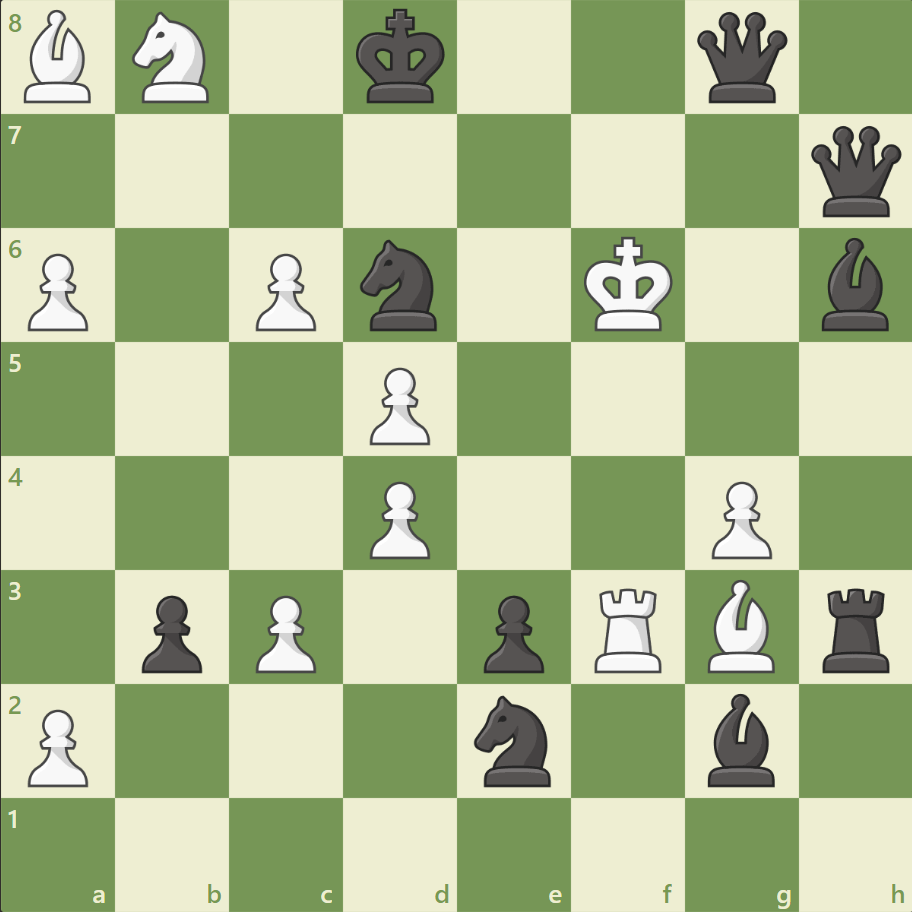B: (17, 6, 101, 109), (698, 574, 782, 676)
K: (579, 231, 679, 339)
N: (124, 7, 222, 110)
P: (20, 246, 95, 337), (247, 246, 322, 337), (701, 473, 776, 564), (247, 586, 322, 677), (20, 700, 95, 791), (361, 359, 435, 450), (361, 473, 435, 564)
R: (587, 579, 670, 676)
b: (812, 233, 896, 336), (698, 687, 782, 790)
k: (351, 4, 451, 112)
n: (351, 234, 449, 337), (465, 688, 562, 791)
p: (133, 586, 208, 677), (474, 586, 549, 677)
q: (805, 122, 904, 222), (691, 9, 790, 108)
r: (814, 579, 897, 676)
